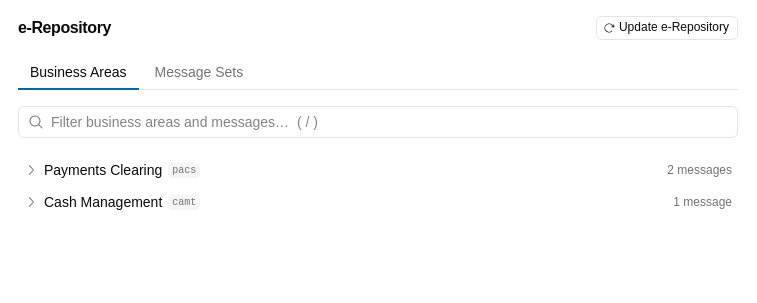
it: ERepositoryBrowser — Message Sets tab › expands a set to reveal its member message links
The image size is (757, 303).
Click the tab "Message Sets": (199, 73) top-left (142, 56), bottom-right (255, 90)
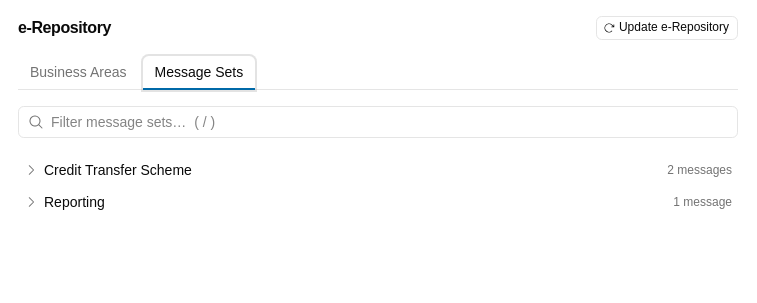
Click the button "Credit Transfer Scheme 2 messages": (118, 170) top-left (18, 154), bottom-right (738, 186)
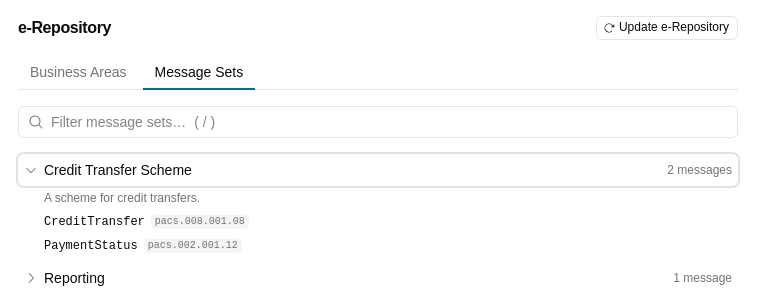
Now the link "PaymentStatus pacs.002.001.12" is shown, box top-left (44, 239), bottom-right (242, 253)
